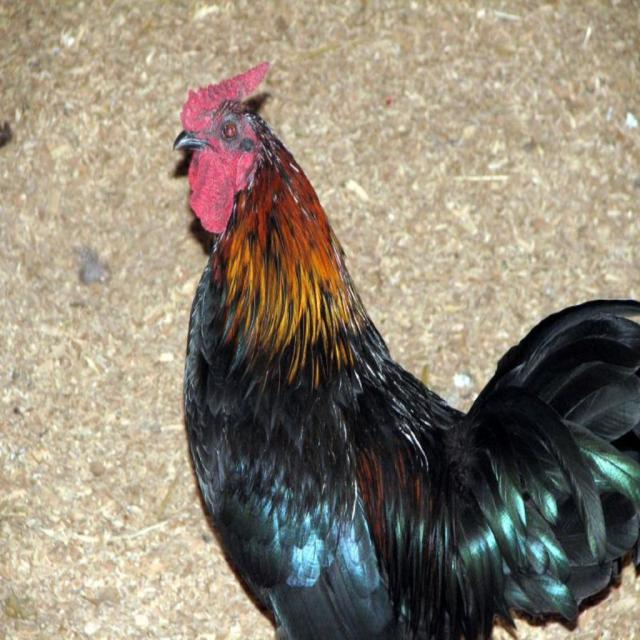Chicken: (170, 52, 639, 639)
